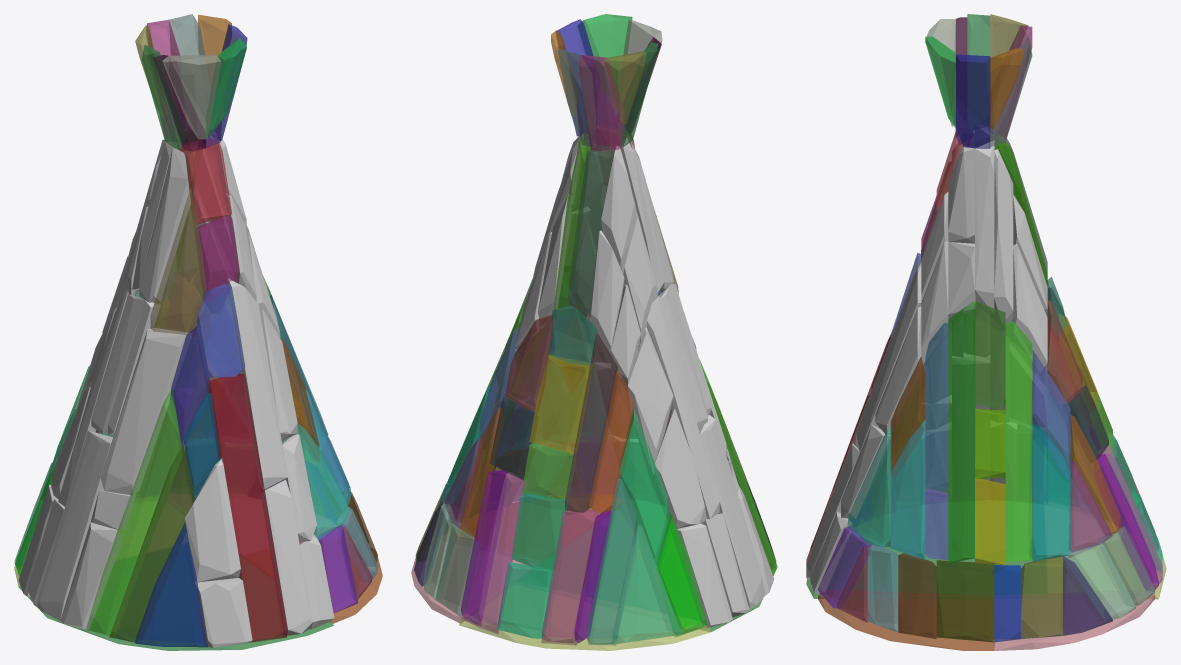
The picture shows the model from 3 angles, left to right: view 1: azimuth 30°, elevation 25°; view 2: azimuth 150°, elevation 25°; view 3: azimuth 270°, elevation 25°; orthographic projection.
Visible parts, largest first — view 1: Shape_IndexedFaceSet.003, Shape_IndexedFaceSet.048, Shape_IndexedFaceSet.063, Shape_IndexedFaceSet.098, Shape_IndexedFaceSet.064, Shape_IndexedFaceSet.070, Shape_IndexedFaceSet.079, Shape_IndexedFaceSet.047, Shape_IndexedFaceSet.058, Shape_IndexedFaceSet.068, Shape_IndexedFaceSet.069, Shape_IndexedFaceSet.081 (+59 smaller); view 2: Shape_IndexedFaceSet.003, Shape_IndexedFaceSet.002, Shape_IndexedFaceSet.005, Shape_IndexedFaceSet.037, Shape_IndexedFaceSet.039, Shape_IndexedFaceSet.033, Shape_IndexedFaceSet.035, Shape_IndexedFaceSet.032, Shape_IndexedFaceSet.041, Shape_IndexedFaceSet.059, Shape_IndexedFaceSet.004, Shape_IndexedFaceSet.079 (+67 smaller); view 3: Shape_IndexedFaceSet.003, Shape_IndexedFaceSet.005, Shape_IndexedFaceSet.015, Shape_IndexedFaceSet.014, Shape_IndexedFaceSet.004, Shape_IndexedFaceSet.079, Shape_IndexedFaceSet.002, Shape_IndexedFaceSet.020, Shape_IndexedFaceSet.026, Shape_IndexedFaceSet.031, Shape_IndexedFaceSet.029, Shape_IndexedFaceSet.051 (+67 smaller).
Part boxes in pixels (left/top/right/bottom): Shape_IndexedFaceSet.003: left=19, top=546, right=333, bottom=650; Shape_IndexedFaceSet.048: left=206, top=373, right=287, bottom=642; Shape_IndexedFaceSet.063: left=86, top=389, right=182, bottom=636; Shape_IndexedFaceSet.098: left=100, top=328, right=192, bottom=494; Shape_IndexedFaceSet.064: left=109, top=444, right=194, bottom=642; Shape_IndexedFaceSet.070: left=227, top=278, right=287, bottom=489; Shape_IndexedFaceSet.079: left=37, top=430, right=112, bottom=620; Shape_IndexedFaceSet.047: left=134, top=522, right=207, bottom=647; Shape_IndexedFaceSet.058: left=150, top=186, right=206, bottom=334; Shape_IndexedFaceSet.068: left=185, top=457, right=240, bottom=582; Shape_IndexedFaceSet.069: left=261, top=479, right=312, bottom=635; Shape_IndexedFaceSet.081: left=139, top=147, right=190, bottom=302; Shape_IndexedFaceSet.003: left=519, top=500, right=775, bottom=631; Shape_IndexedFaceSet.002: left=459, top=582, right=710, bottom=650; Shape_IndexedFaceSet.005: left=447, top=494, right=623, bottom=560; Shape_IndexedFaceSet.037: left=541, top=509, right=598, bottom=645; Shape_IndexedFaceSet.039: left=565, top=333, right=617, bottom=512; Shape_IndexedFaceSet.033: left=586, top=479, right=638, bottom=645; Shape_IndexedFaceSet.035: left=619, top=410, right=670, bottom=573; Shape_IndexedFaceSet.032: left=612, top=523, right=681, bottom=644; Shape_IndexedFaceSet.041: left=529, top=355, right=592, bottom=453; Shape_IndexedFaceSet.059: left=567, top=145, right=614, bottom=321; Shape_IndexedFaceSet.004: left=411, top=540, right=537, bottom=623; Shape_IndexedFaceSet.079: left=698, top=414, right=765, bottom=609; Shape_IndexedFaceSet.003: left=806, top=500, right=1046, bottom=598; Shape_IndexedFaceSet.005: left=818, top=590, right=994, bottom=650; Shape_IndexedFaceSet.015: left=948, top=301, right=975, bottom=563; Shape_IndexedFaceSet.014: left=1005, top=321, right=1032, bottom=561; Shape_IndexedFaceSet.004: left=993, top=591, right=1154, bottom=650; Shape_IndexedFaceSet.079: left=952, top=356, right=990, bottom=500; Shape_IndexedFaceSet.002: left=1044, top=501, right=1166, bottom=599; Shape_IndexedFaceSet.020: left=936, top=560, right=994, bottom=642; Shape_IndexedFaceSet.026: left=1032, top=424, right=1070, bottom=561; Shape_IndexedFaceSet.031: left=890, top=420, right=925, bottom=559; Shape_IndexedFaceSet.029: left=925, top=323, right=948, bottom=492; Shape_IndexedFaceSet.051: left=1021, top=554, right=1063, bottom=638.
Bounding box in the file's own units: 0.4654 × 0.7626 × 0.4654.
